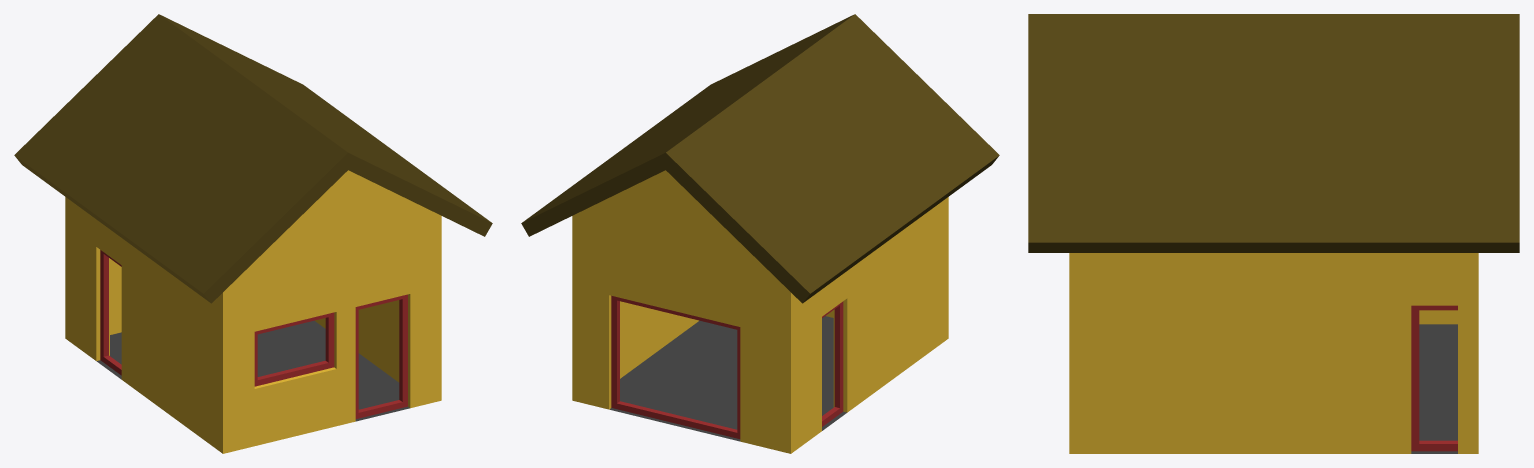
File: result.dae
The picture shows the model from 3 angles, left to right: view 1: azimuth 30°, elevation 25°; view 2: azimuth 150°, elevation 25°; view 3: azimuth 270°, elevation 25°; orthographic projection. The views are drawn at different scales.
Parts seen in each view (by area): view 1: 72ac68ab-f5e8-4b0b-92fe-6dd88877319a__undefined (×5), 828542c2-f19e-4887-bbf1-fe0dba2b1b95__undefined (×5), 1876b13b-67be-498d-a9b1-c17a7595e52a__Plane_6, 9ecb9113-2fac-4591-a2d1-5b5378940a8a__Box, 62ef6b94-ba24-4ffd-95cc-e10e7122eaa8__Box_3, c08a7992-05c2-4093-b60c-2d3bb5d87e69__Box_12 (×2); view 2: 828542c2-f19e-4887-bbf1-fe0dba2b1b95__undefined (×5), 72ac68ab-f5e8-4b0b-92fe-6dd88877319a__undefined (×4), 1876b13b-67be-498d-a9b1-c17a7595e52a__Plane_6, b1571cff-27bb-4052-8b6c-04019c2d5566__Box_9, c08a7992-05c2-4093-b60c-2d3bb5d87e69__Box_12 (×2); view 3: 828542c2-f19e-4887-bbf1-fe0dba2b1b95__undefined (×2), 72ac68ab-f5e8-4b0b-92fe-6dd88877319a__undefined (×2), 1876b13b-67be-498d-a9b1-c17a7595e52a__Plane_6, e28bd7c7-b33f-482a-9d1e-90a025f73627__Box_15.
Boxes of the visible parts, left/top/right/bottom form: 72ac68ab-f5e8-4b0b-92fe-6dd88877319a__undefined (×5): left=65, top=170, right=441, bottom=453; 828542c2-f19e-4887-bbf1-fe0dba2b1b95__undefined (×5): left=14, top=14, right=492, bottom=303; 1876b13b-67be-498d-a9b1-c17a7595e52a__Plane_6: left=96, top=320, right=409, bottom=421; 9ecb9113-2fac-4591-a2d1-5b5378940a8a__Box: left=355, top=294, right=407, bottom=418; 62ef6b94-ba24-4ffd-95cc-e10e7122eaa8__Box_3: left=254, top=312, right=334, bottom=386; c08a7992-05c2-4093-b60c-2d3bb5d87e69__Box_12 (×2): left=100, top=250, right=121, bottom=375; 828542c2-f19e-4887-bbf1-fe0dba2b1b95__undefined (×5): left=521, top=14, right=999, bottom=303; 72ac68ab-f5e8-4b0b-92fe-6dd88877319a__undefined (×4): left=572, top=170, right=948, bottom=453; 1876b13b-67be-498d-a9b1-c17a7595e52a__Plane_6: left=609, top=316, right=846, bottom=441; b1571cff-27bb-4052-8b6c-04019c2d5566__Box_9: left=611, top=295, right=740, bottom=438; c08a7992-05c2-4093-b60c-2d3bb5d87e69__Box_12 (×2): left=822, top=301, right=843, bottom=426; 828542c2-f19e-4887-bbf1-fe0dba2b1b95__undefined (×2): left=1028, top=14, right=1519, bottom=252; 72ac68ab-f5e8-4b0b-92fe-6dd88877319a__undefined (×2): left=1069, top=253, right=1478, bottom=453; 1876b13b-67be-498d-a9b1-c17a7595e52a__Plane_6: left=1411, top=324, right=1457, bottom=453; e28bd7c7-b33f-482a-9d1e-90a025f73627__Box_15: left=1411, top=305, right=1457, bottom=451.
Size of the model in its own units: 529 by 500 by 600.
